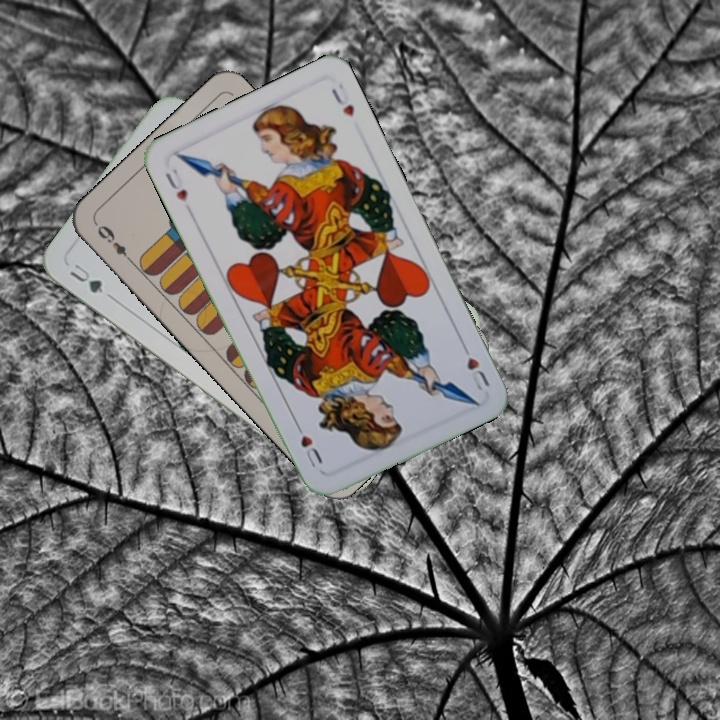E9: (91, 219, 137, 267)
GU: (65, 259, 106, 296)
HU: (457, 338, 492, 394), (161, 164, 190, 205)
